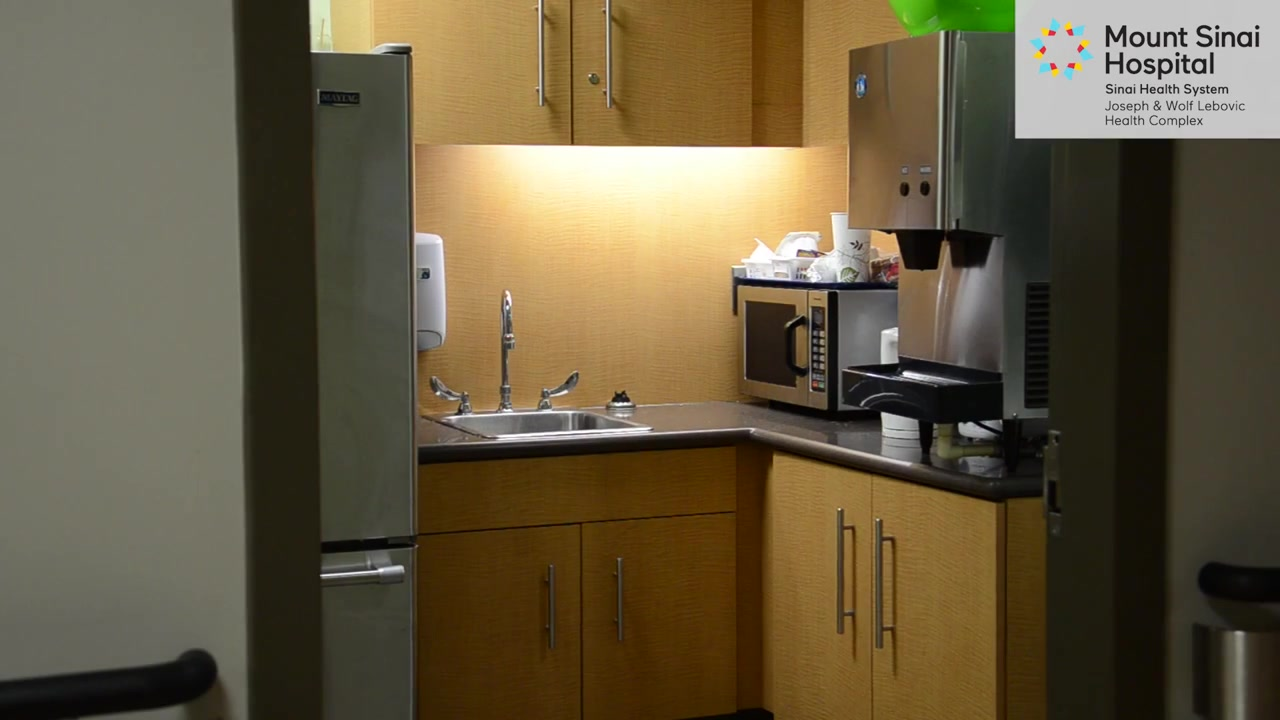cabinet: (336, 1, 804, 148)
counter: (415, 388, 1054, 720)
countertop: (748, 400, 1042, 502), (415, 388, 748, 452)
dispenser: (416, 230, 447, 352)
faucet: (427, 370, 482, 419), (497, 288, 517, 412), (535, 365, 582, 414)
hallway_assist_bar: (1, 646, 216, 718), (1198, 553, 1280, 602)
handle: (873, 516, 895, 651), (834, 505, 855, 636), (318, 567, 409, 587), (601, 1, 614, 108), (533, 1, 545, 108), (542, 562, 556, 653), (611, 556, 625, 645)
sink: (441, 409, 653, 441)
